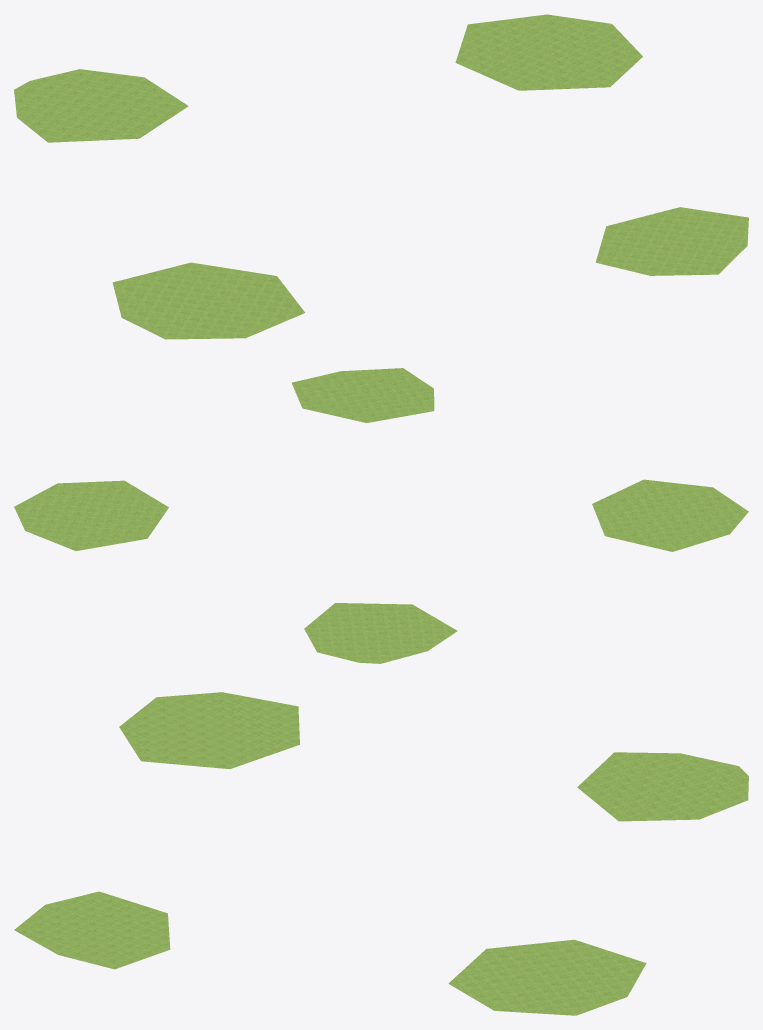
File: kd_connection_world-outer_surface_10_0.glb
3 views of the same model, one above another, from view 1: azimuth 30°, elevation 25°; view 2: azimuth 150°, elevation 25°; view 3: azimuth 270°, elevation 25° (orthographic). The views are drawn at different scales.
Visible parts, largest first — view 1: kd_connection_world-outer_surface_10_0; view 2: kd_connection_world-outer_surface_10_0; view 3: kd_connection_world-outer_surface_10_0.
Boxes of the visible parts, <box> form: kd_connection_world-outer_surface_10_0: <box>14,14,748,339</box>; kd_connection_world-outer_surface_10_0: <box>14,368,748,663</box>; kd_connection_world-outer_surface_10_0: <box>14,692,748,1015</box>.
Bounding box in the file's own units: 292 × 0 × 280.
Materials: 1 (1 with a texture image).
